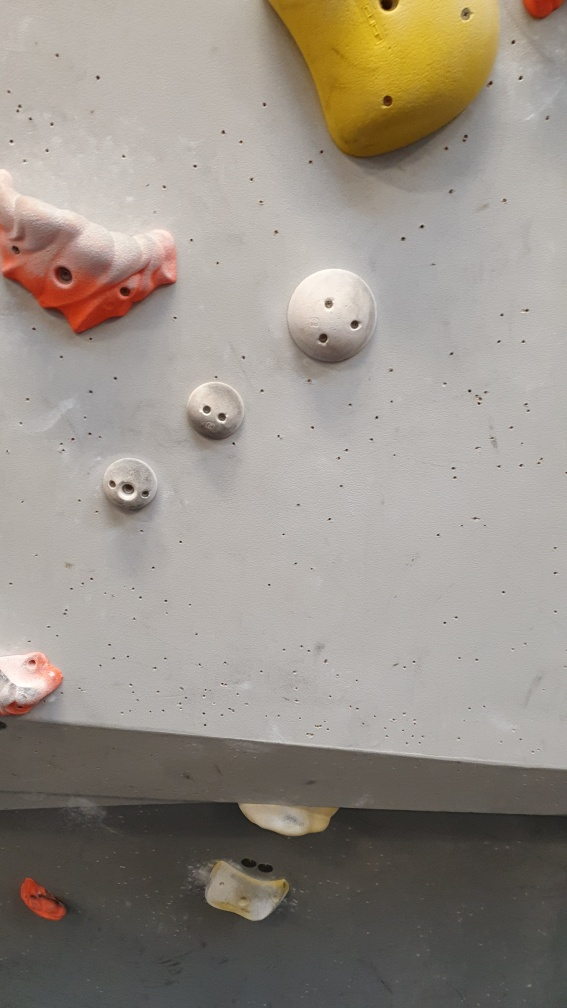Hand Start: (255, 857, 276, 878), (236, 852, 256, 874)
Jug: (1, 160, 185, 342), (18, 872, 69, 924)
Sloper: (285, 262, 383, 372), (183, 372, 246, 450), (100, 454, 161, 518)
